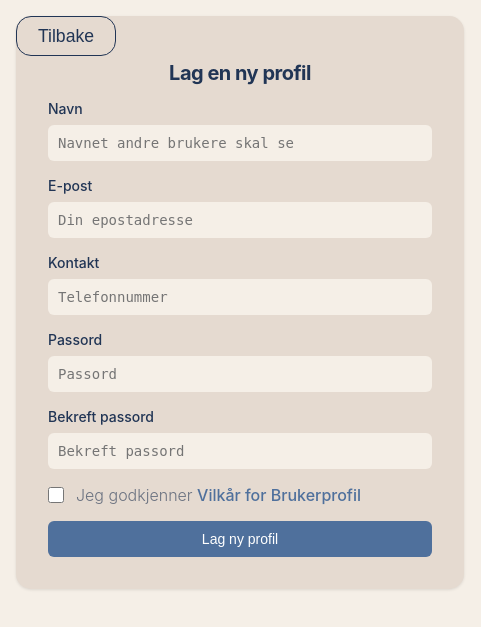
Test case: Submits form with wrongfull data
// User input with only one letter
Type "O" into the field labelled "Navn".
click(240, 143); type("O")  # box [48,125,432,161]
Type "ola.nordmann@ntnu.no" into the field labelled "E-post".
click(240, 220); type("ola.nordmann@ntnu.no")  # box [48,202,432,238]
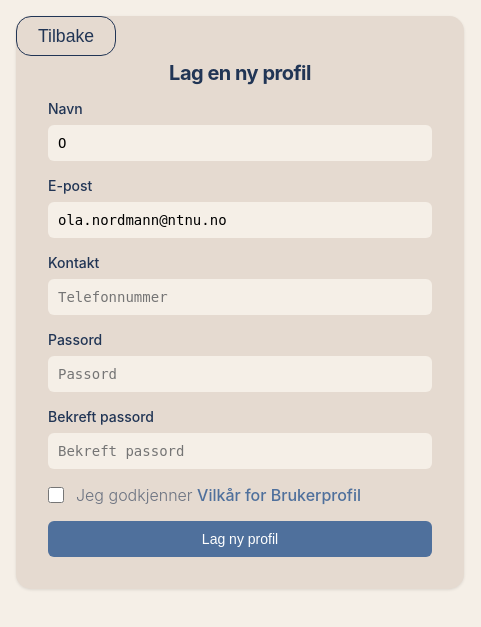
Type "90807060" into the field labelled "Kontakt".
click(240, 297); type("90807060")  # box [48,279,432,315]
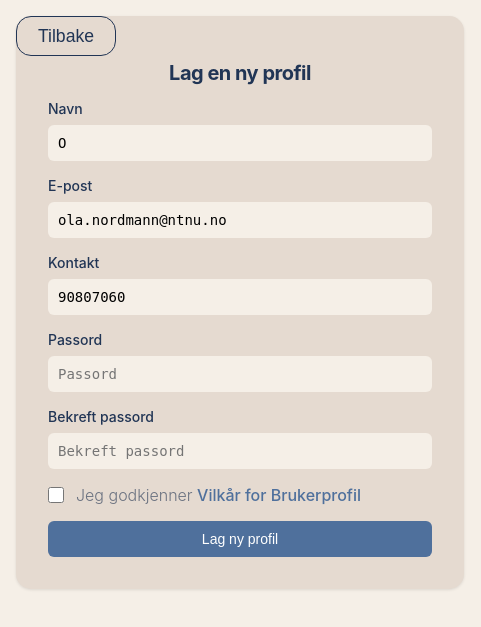
Type "Test123" into the password field with test id "password-input".
click(240, 374); type("Test123")  # box [48,356,432,392]
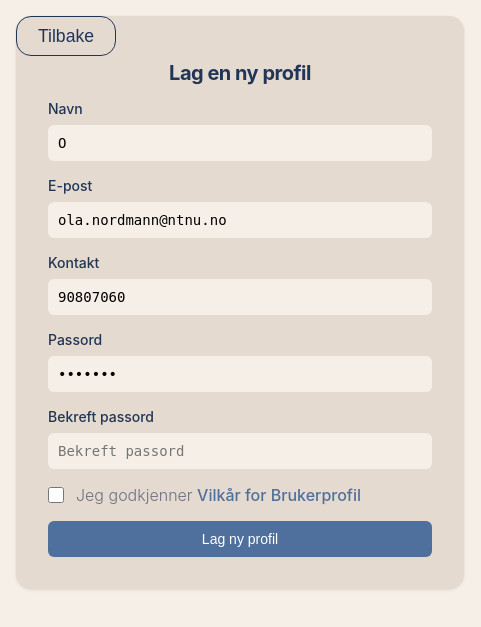
Type "Test123" into the password field with test id "confirmPassword-input".
click(240, 451); type("Test123")  # box [48,433,432,469]
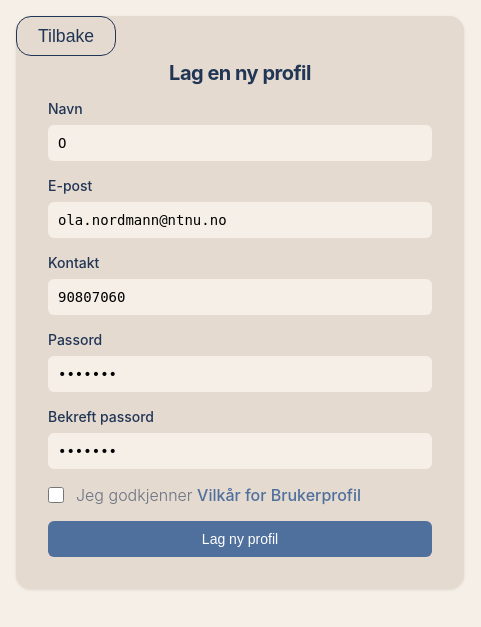
Click the checkbox labelled "Jeg godkjenner Vilkår for Brukerprofil".
click(56, 495)  # box [48,487,64,503]
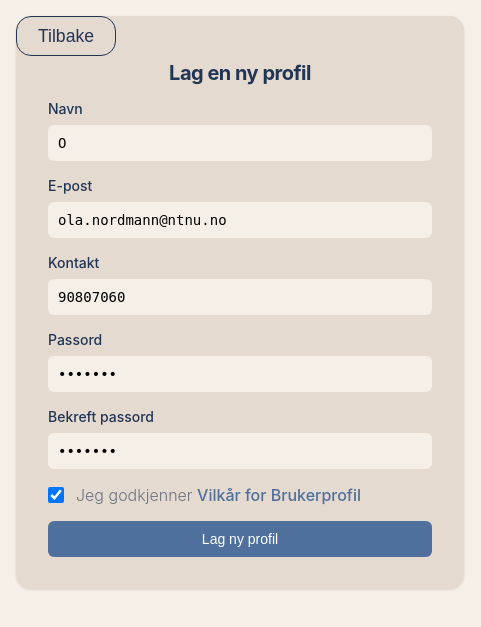
// Form submission
Click the button "Lag ny profil".
click(240, 539)  # box [48,521,432,557]
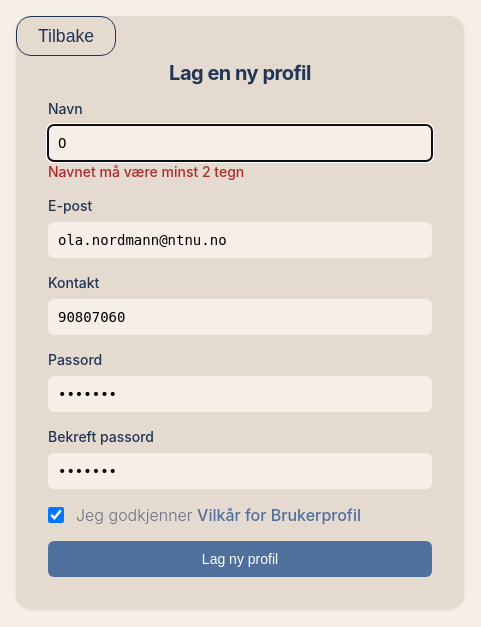
Result: the text "Navnet må være minst 2 tegn" is shown once at [48,163,244,180]
